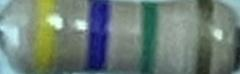Blue: (84, 0, 112, 72)
Green: (139, 1, 160, 73)
Side-Silver: (198, 1, 214, 74)
Yellow: (30, 1, 58, 72)
